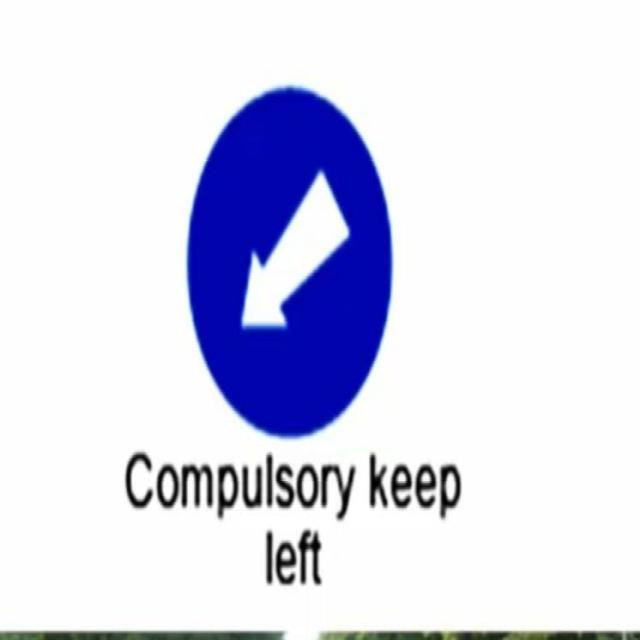compulsory_keep_left: (186, 85, 392, 438)
